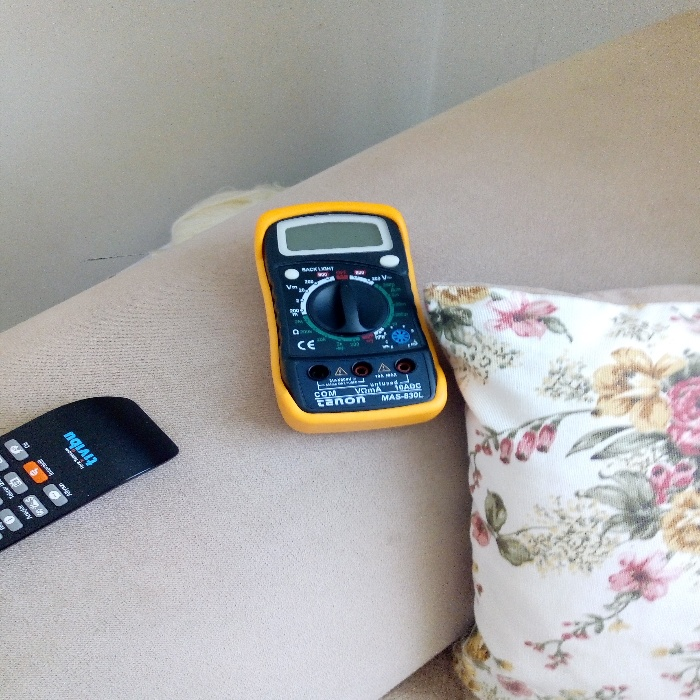multimetre: (244, 185, 450, 458)
